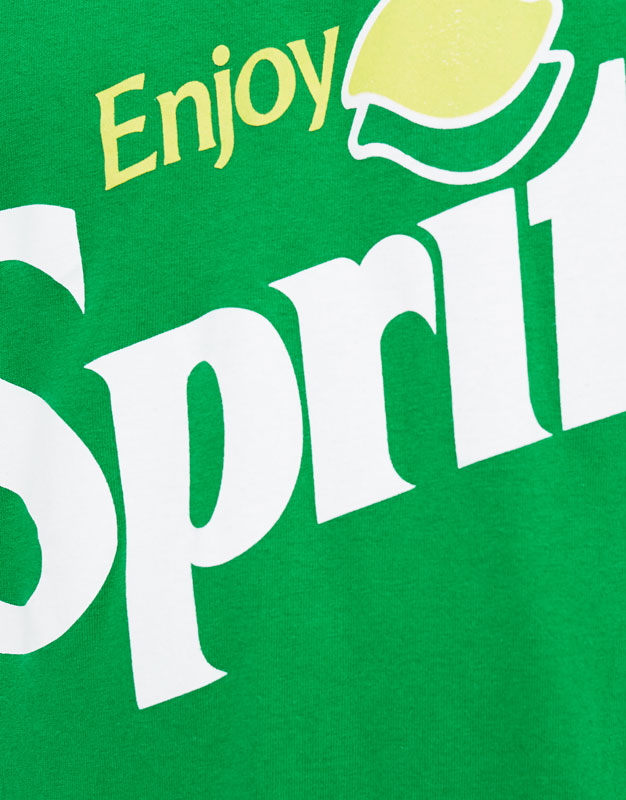sprite: (1, 55, 624, 725)
